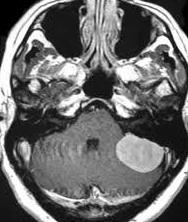Tumour-Meningioma: (97, 135, 173, 186)
